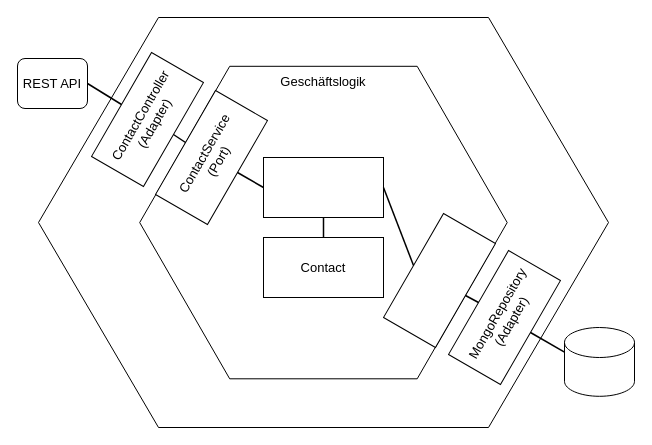
Some shapes in this 652 by 445 pixel diagram are drawn without their labels. The box of each missing label's shape, as (x1, y1, x2, y2) in pixels:
ContactRepository (Port): (382, 212, 496, 348)
ContactServiceImpl: (262, 156, 384, 218)
MongoDB: (564, 326, 634, 396)
